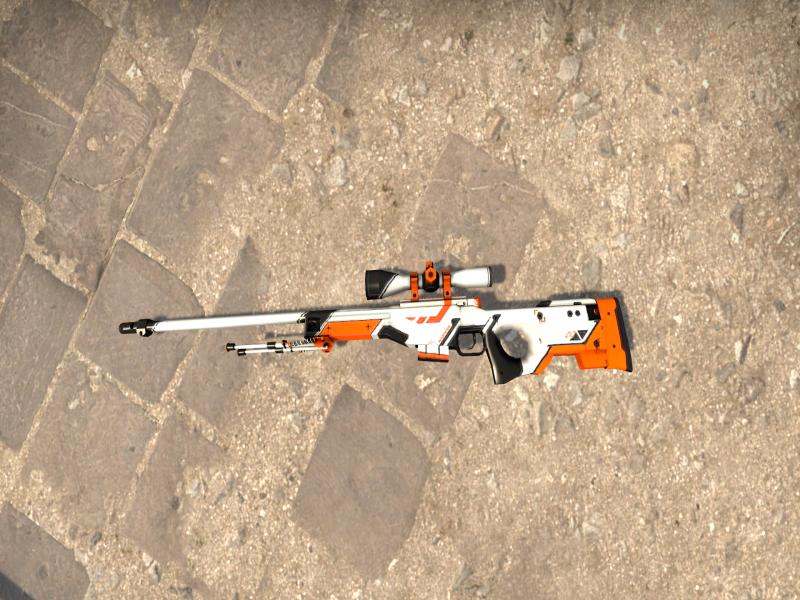AWP: (119, 267, 633, 383)
